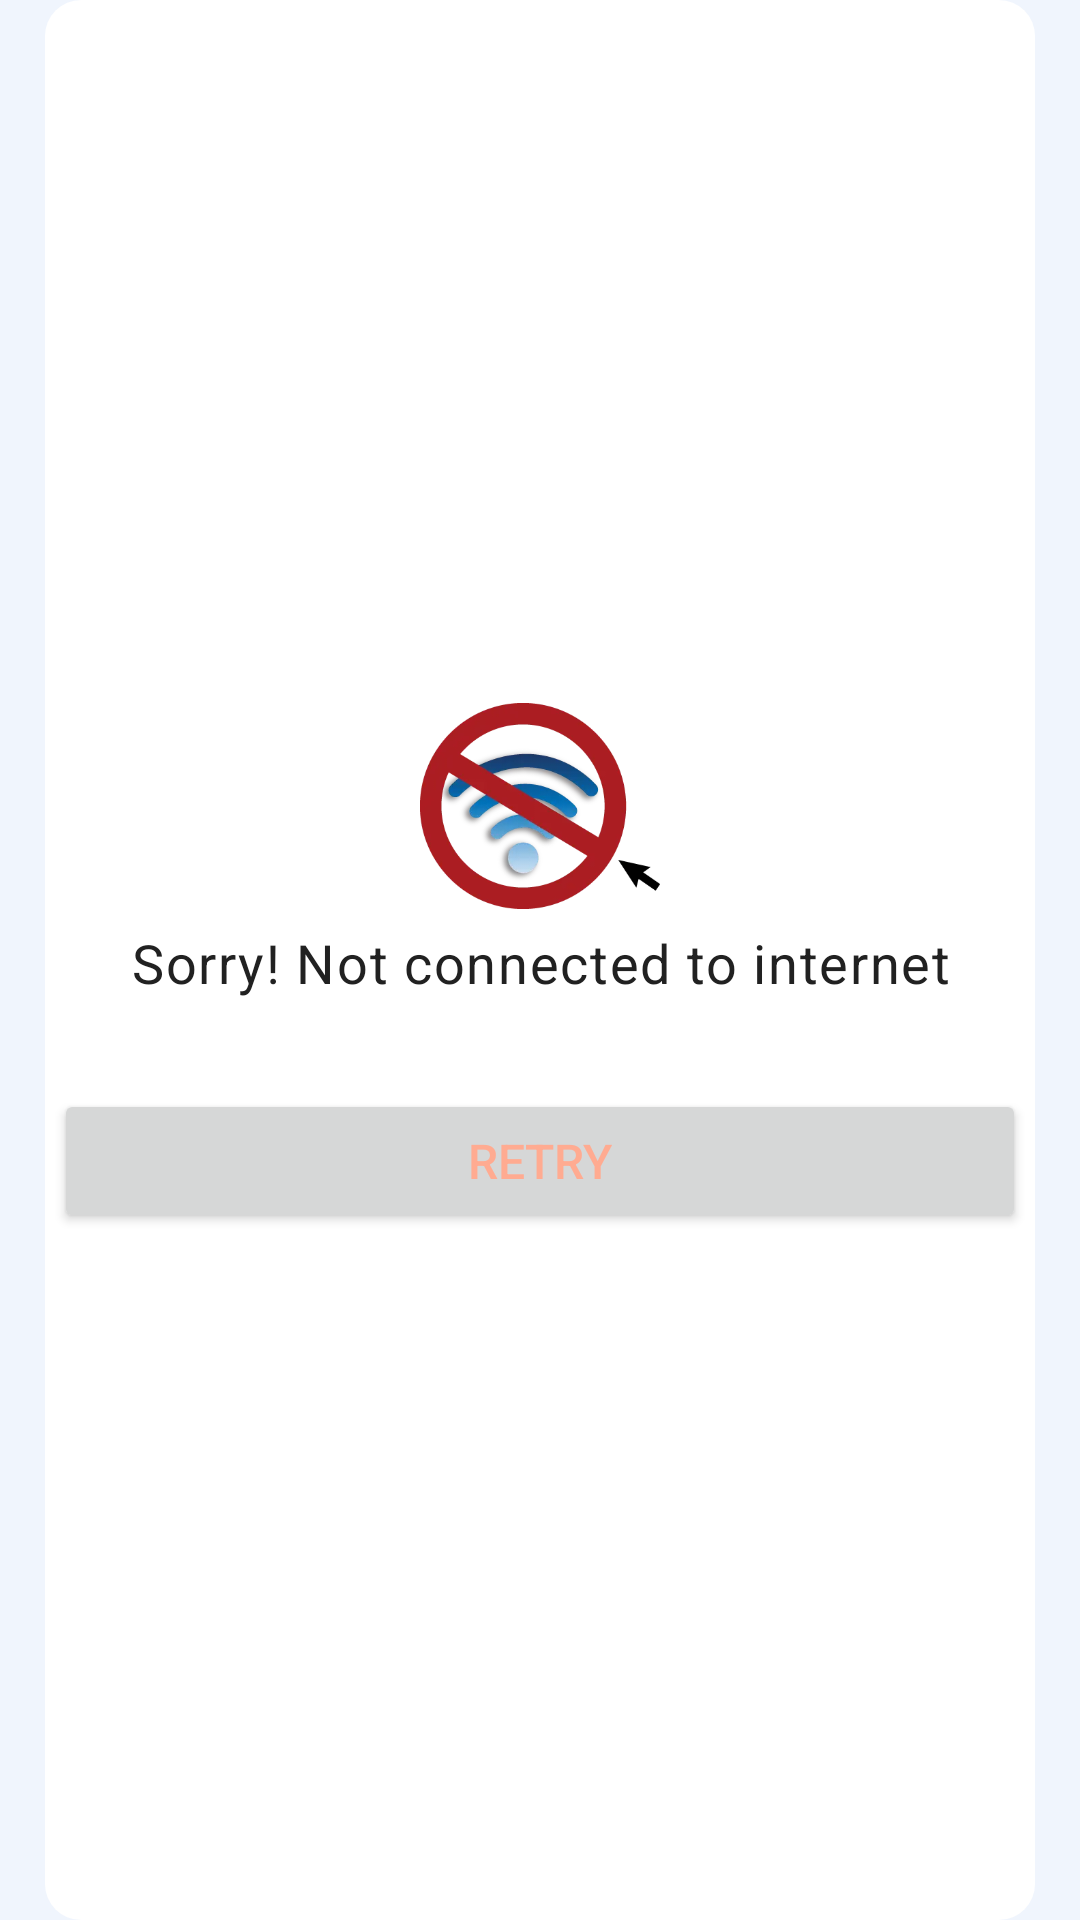

Where icons sit on this 1080 × 1920 app screen, as (x1, y1, x2, y2):
nework error: (420, 703, 660, 909)
